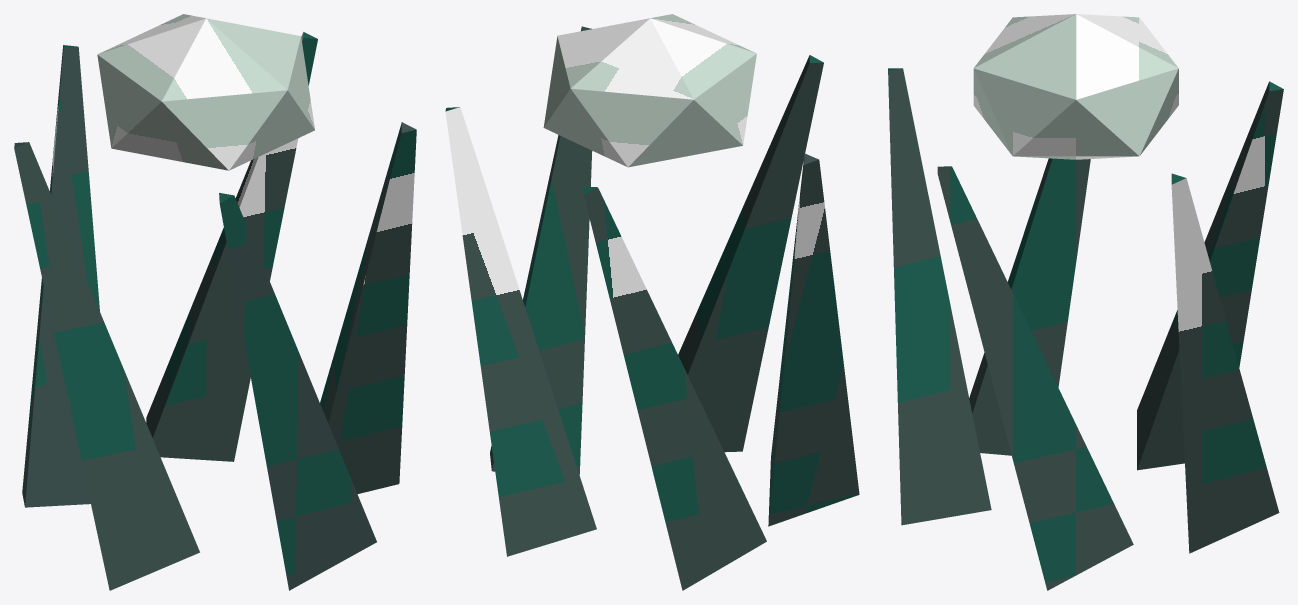
The model's file is r05_flor_de_neve.glb.
3 views of the same model, side by side, from view 1: azimuth 30°, elevation 25°; view 2: azimuth 150°, elevation 25°; view 3: azimuth 270°, elevation 25° (orthographic). The views are drawn at different scales.
Parts seen in each view (by area): view 1: r05_flor_de_neve; view 2: r05_flor_de_neve; view 3: r05_flor_de_neve.
Boxes of the visible parts, x1,y1,x2,y2 form: r05_flor_de_neve: (14, 14, 416, 590); r05_flor_de_neve: (445, 14, 859, 590); r05_flor_de_neve: (888, 14, 1283, 590).
Bounding box in the file's own units: 0.4083 × 0.5473 × 0.3937.
2 materials, 2 textured.
